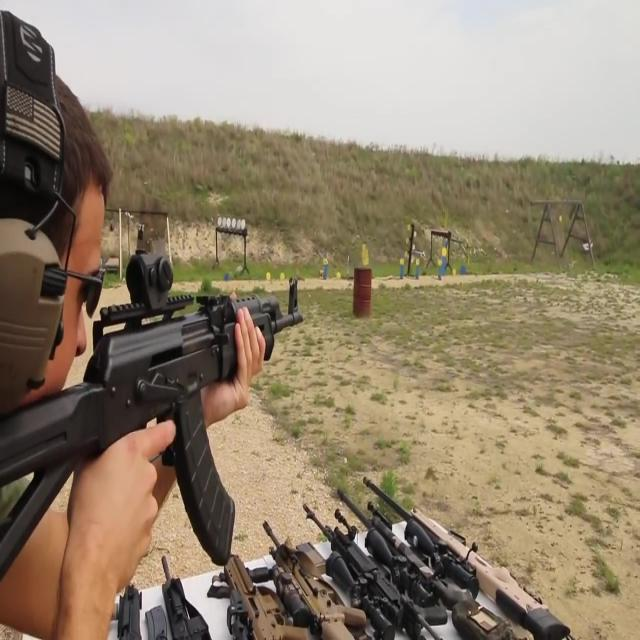Weapon: (1, 222, 338, 600), (83, 472, 583, 640)
